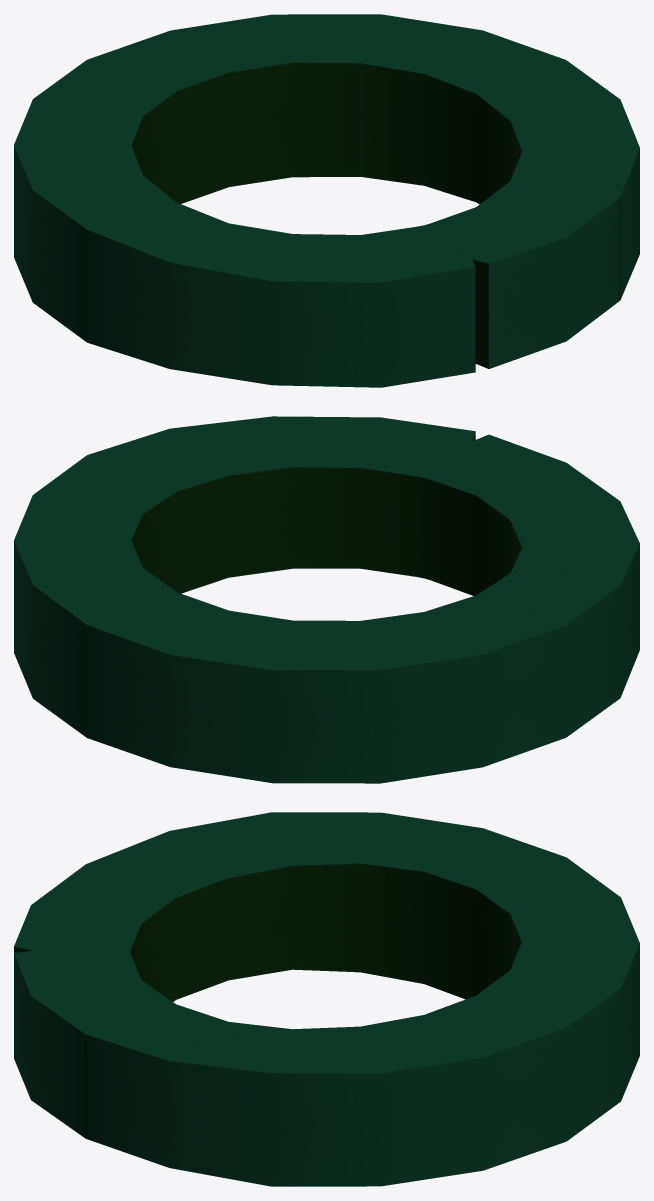
The picture shows the model from 3 angles, top to bottom: view 1: azimuth 30°, elevation 25°; view 2: azimuth 150°, elevation 25°; view 3: azimuth 270°, elevation 25°; orthographic projection.
Parts seen in each view (by area): view 1: 203_LaKuai_XiuCuo; view 2: 203_LaKuai_XiuCuo; view 3: 203_LaKuai_XiuCuo.
Part boxes in pixels (x1=…): 203_LaKuai_XiuCuo: x1=14, y1=14, x2=639, y2=387; 203_LaKuai_XiuCuo: x1=14, y1=416, x2=639, y2=783; 203_LaKuai_XiuCuo: x1=14, y1=812, x2=639, y2=1186.
Size of the model in its own units: 2.36 by 0.4855 by 2.39.
1 material, 1 textured.
